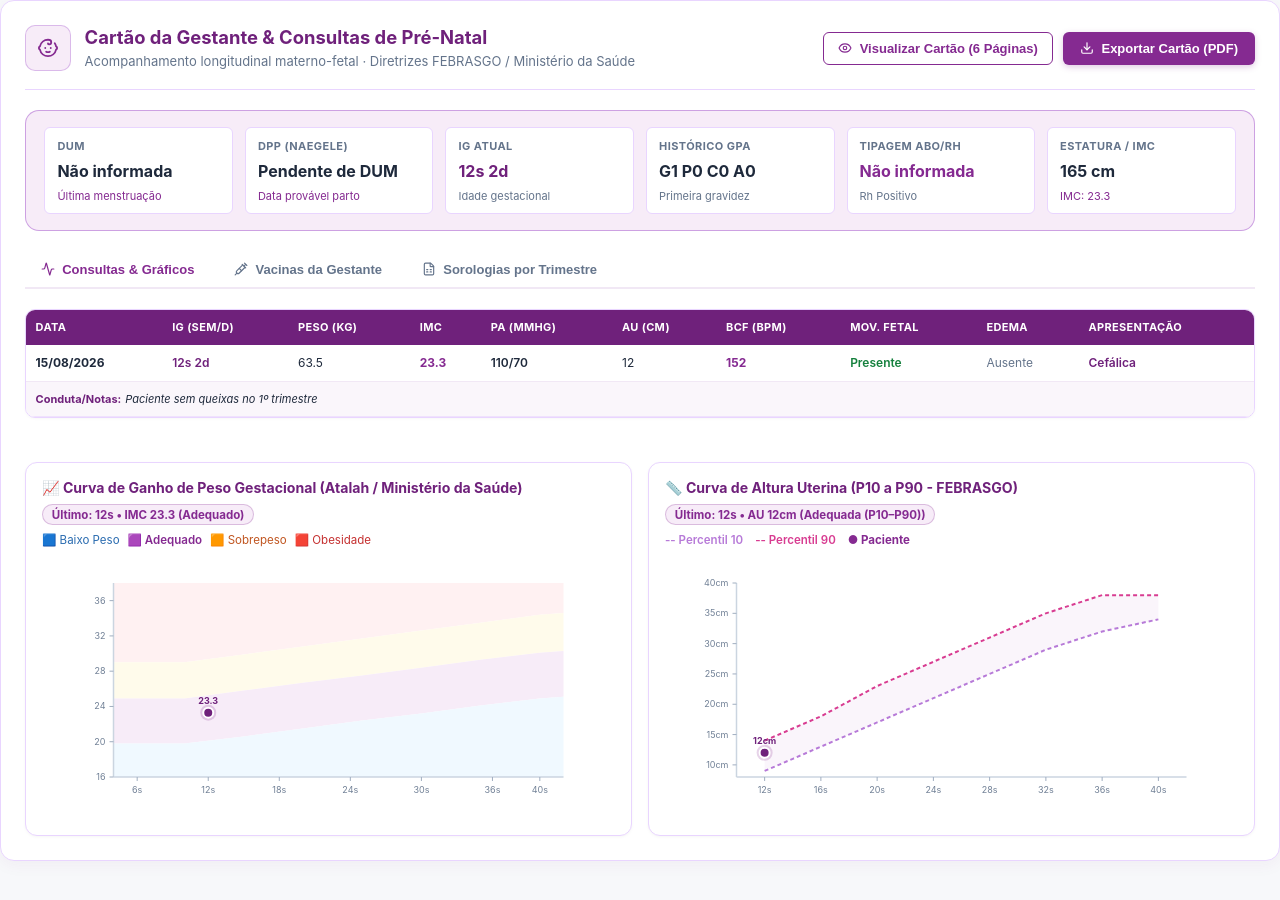
PrenatalCardSection Component (SPEC-0035 / RN-007 / GO) › permite alternar entre as abas Consultas & Gráficos, Vacinas da Gestante e Sorologias por Trimestre
Check: the text "Curva de Ganho de Peso Gestacional" is shown, box 42,479 -> 523,496
Note: Alterna para Vacinas da Gestante
Click the button "Vacinas da Gestante" at (308, 270), box 218,251 -> 398,289
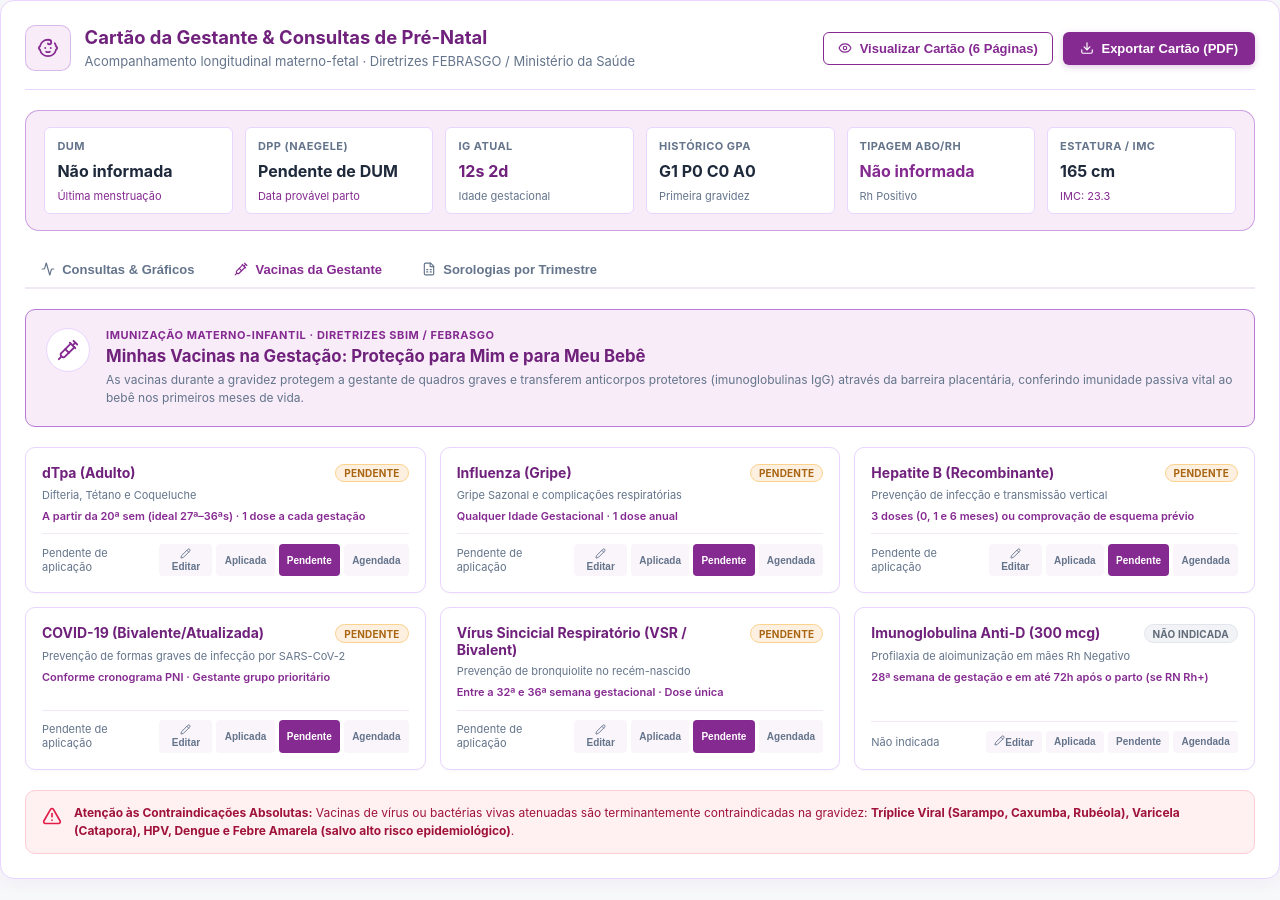
Check: the text "dTpa (Adulto)" is shown, box 42,464 -> 136,480
Check: the text "Influenza (Gripe)" is shown, box 457,464 -> 572,480
Check: the text "Vírus Sincicial Respiratório (VSR / Bivalent)" is shown, box 457,624 -> 687,658
Note: Alterna para Sorologias por Trimestre
Click the button "Sorologias por Trimestre" at (510, 270), box 406,251 -> 613,289
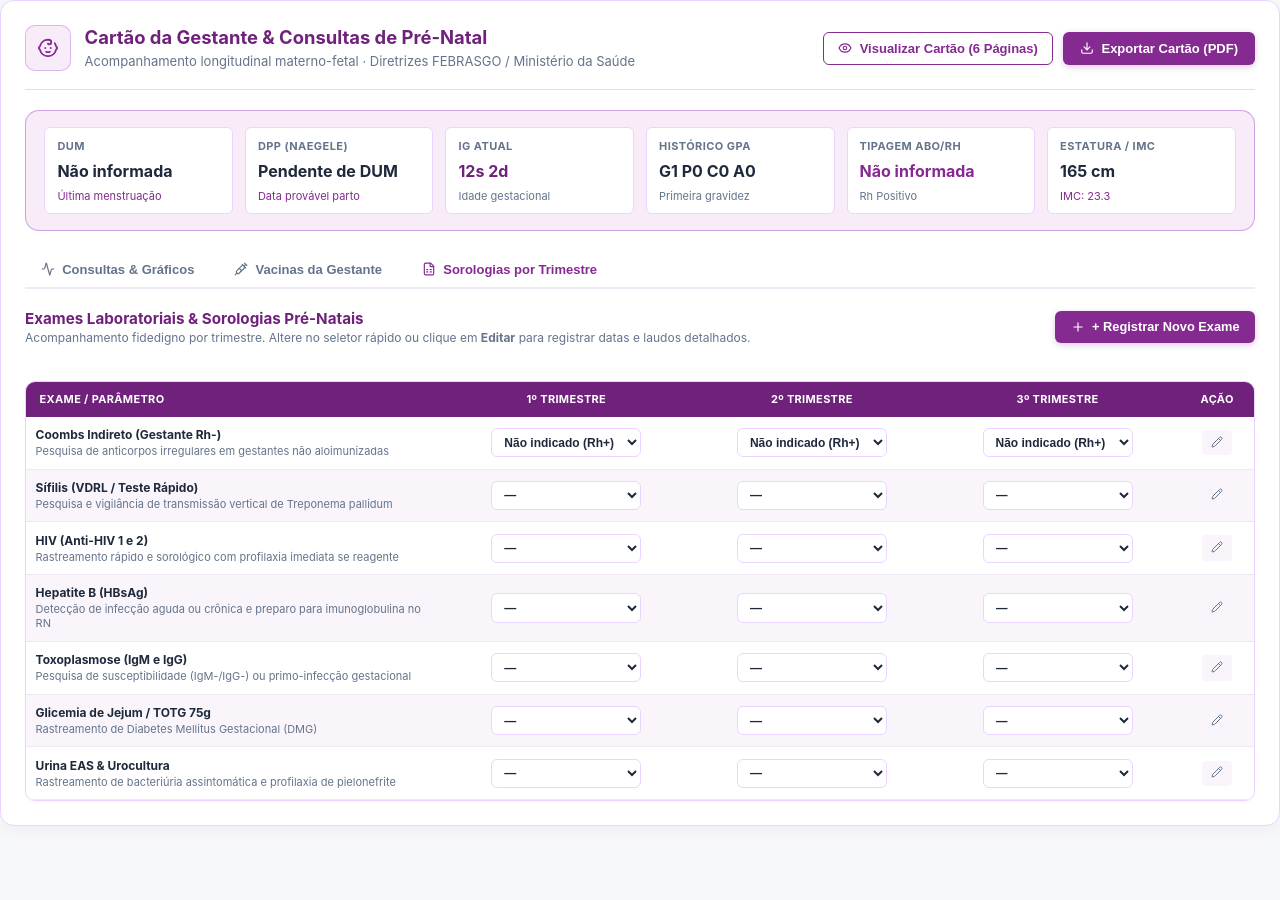
Check: the text "HIV (Anti-HIV 1 e 2)" is shown, box 36,533 -> 148,548
Check: the text "Coombs Indireto (Gestante Rh-)" is shown, box 36,427 -> 221,442
